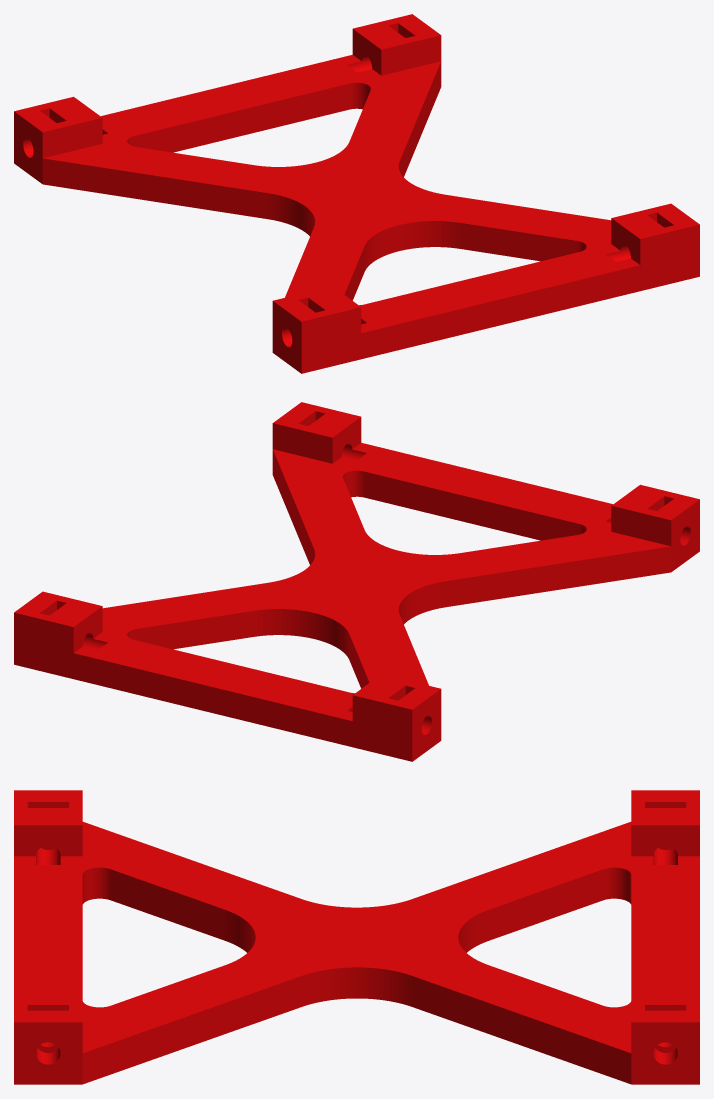
The picture shows the model from 3 angles, top to bottom: view 1: azimuth 30°, elevation 25°; view 2: azimuth 150°, elevation 25°; view 3: azimuth 270°, elevation 25°; orthographic projection. The views are drawn at different scales.
Parts seen in each view (by area): view 1: Front; view 2: Front; view 3: Front.
Part boxes in pixels (left/top/right/bottom): Front: left=14, top=14, right=699, bottom=373; Front: left=14, top=402, right=699, bottom=761; Front: left=14, top=790, right=699, bottom=1084.
Bounding box in the file's own units: 80 × 10 × 100.
